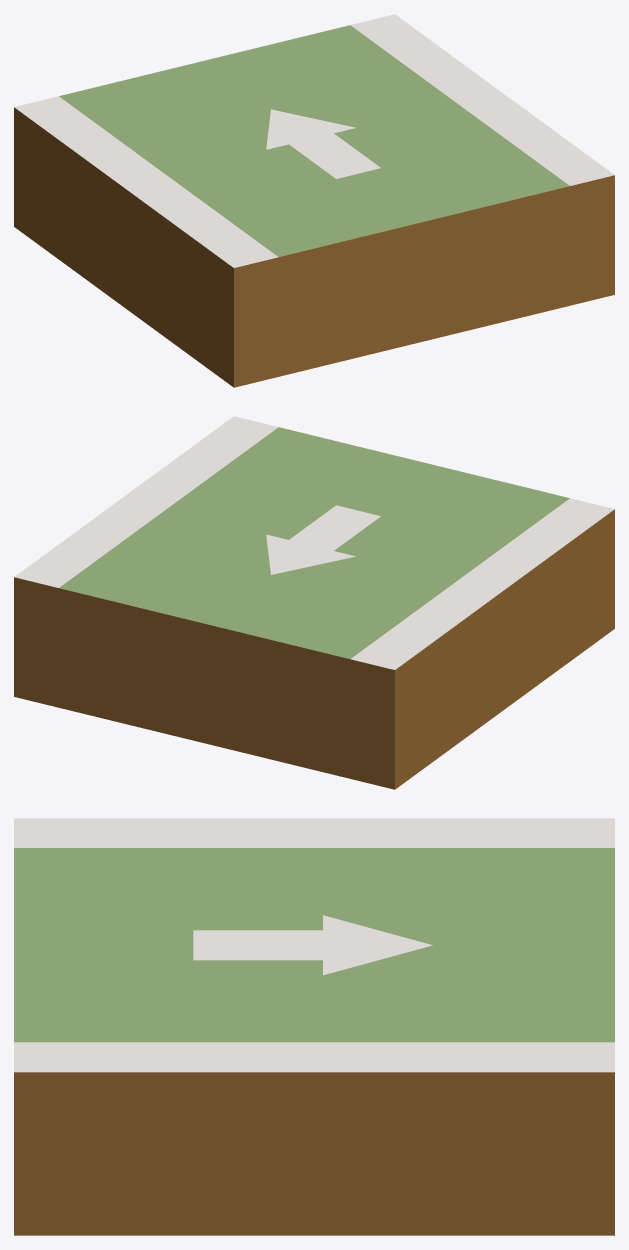
File: floor_basic_green3.fbx
The picture shows the model from 3 angles, top to bottom: view 1: azimuth 30°, elevation 25°; view 2: azimuth 150°, elevation 25°; view 3: azimuth 270°, elevation 25°; orthographic projection. The views are drawn at different scales.
Parts seen in each view (by area): view 1: green_basic_floor3; view 2: green_basic_floor3; view 3: green_basic_floor3.
Boxes of the visible parts, x1,y1,x2,y2 form: green_basic_floor3: (14, 14, 614, 387); green_basic_floor3: (14, 416, 614, 789); green_basic_floor3: (14, 818, 614, 1235).
Bounding box in the file's own units: 100 × 100 × 30.
